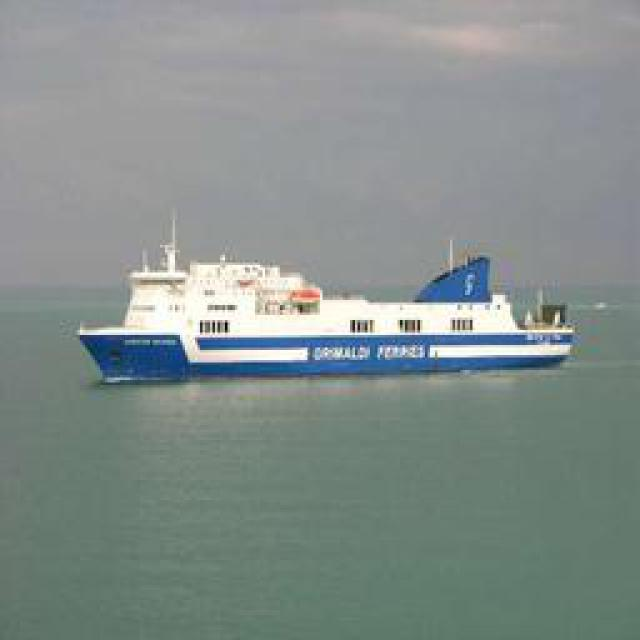Ship: (86, 239, 579, 379)
